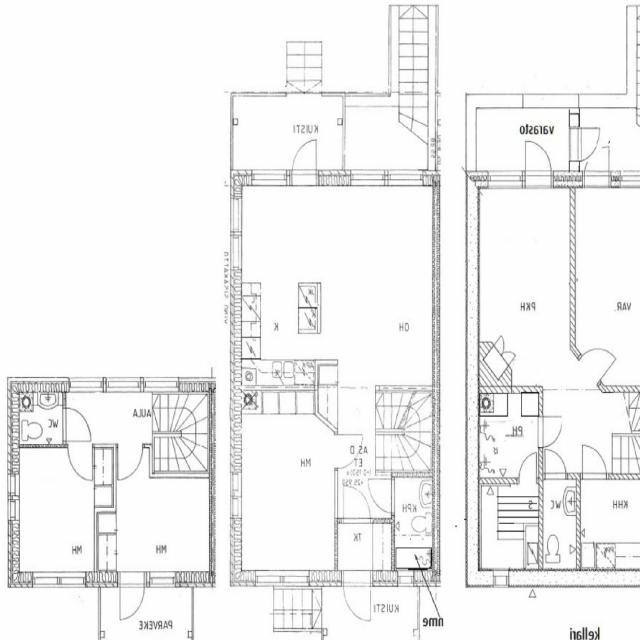door: (579, 332, 618, 385), (525, 134, 552, 188), (344, 569, 371, 622), (585, 136, 610, 188), (569, 127, 605, 160), (292, 137, 316, 185), (121, 572, 145, 620), (344, 482, 370, 523), (366, 478, 396, 512), (63, 407, 92, 441), (335, 434, 363, 468), (583, 441, 607, 479), (69, 443, 93, 480), (119, 443, 143, 480), (539, 417, 566, 447), (546, 445, 566, 479), (519, 454, 537, 483)
